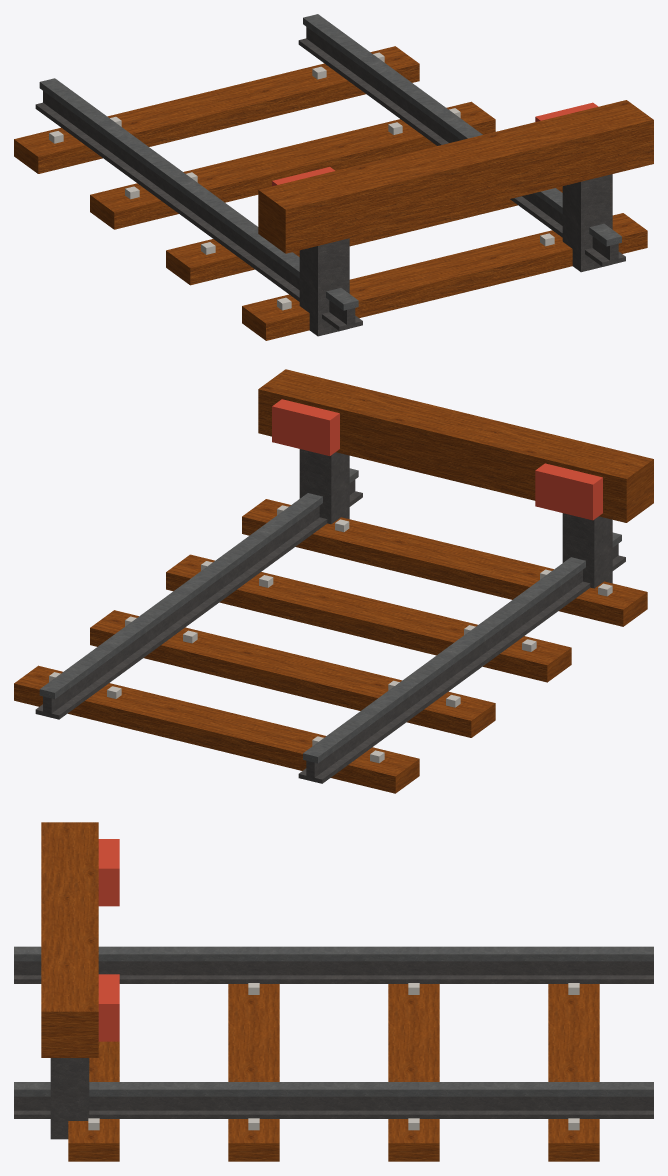
The model's file is rail_buffer.gltf.
3 renders of one model, top to bottom at view 1: azimuth 30°, elevation 25°; view 2: azimuth 150°, elevation 25°; view 3: azimuth 270°, elevation 25°, orthographic. The views are drawn at different scales.
Bounding box in the file's own units: 2.9 × 1.01 × 4.
5 materials, 3 textured.
